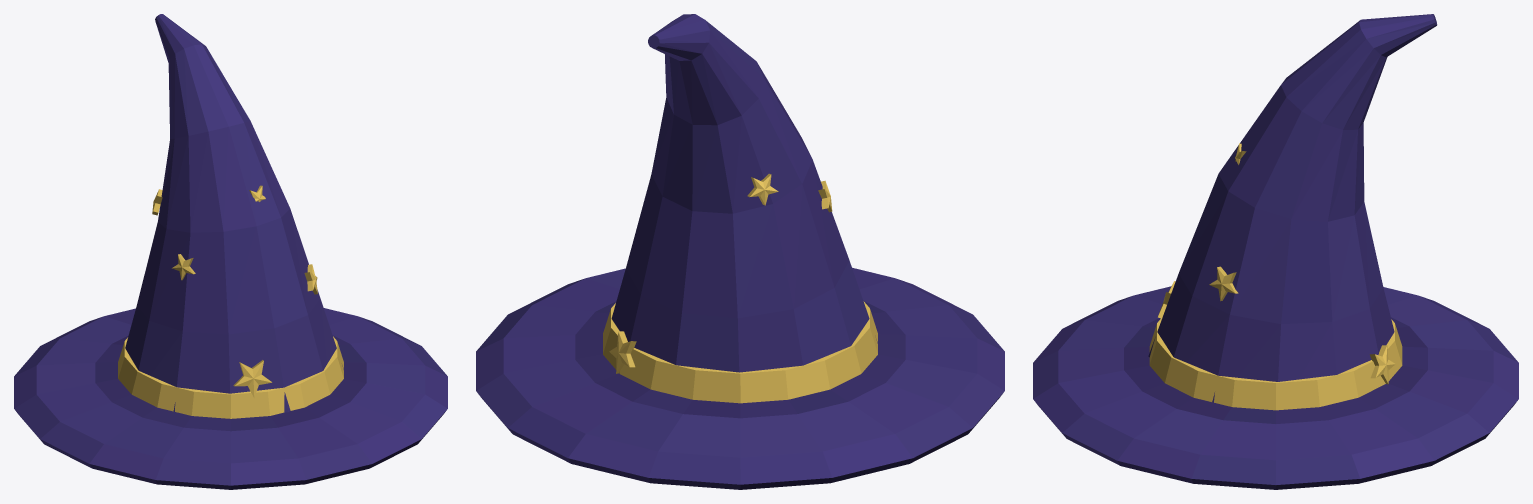
File: wear_wizard_hat.glb
The picture shows the model from 3 angles, left to right: view 1: azimuth 30°, elevation 25°; view 2: azimuth 150°, elevation 25°; view 3: azimuth 270°, elevation 25°; orthographic projection. The views are drawn at different scales.
Parts seen in each view (by area): view 1: wear_wizard_hat; view 2: wear_wizard_hat; view 3: wear_wizard_hat.
Part boxes in pixels (x1,y1,x2,y2): wear_wizard_hat: (14,14,447,489); wear_wizard_hat: (476,14,1004,489); wear_wizard_hat: (1033,14,1518,489).
Bounding box in the file's own units: 0.96 × 0.8014 × 0.9455.
